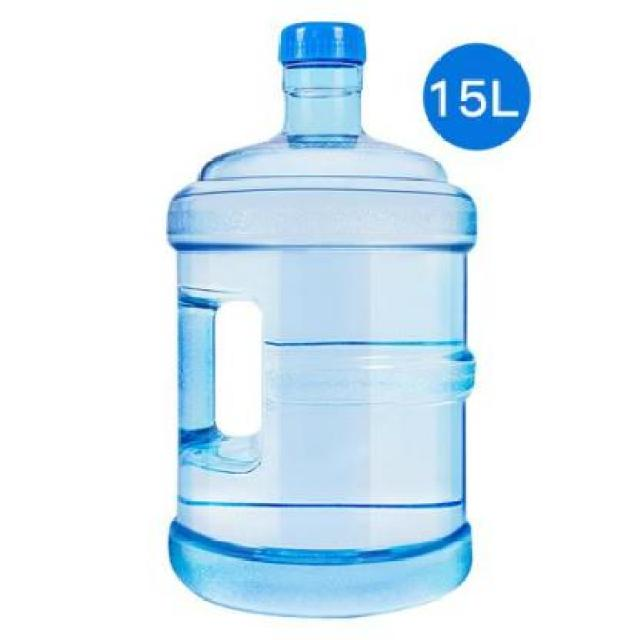coolerbottle: (164, 17, 482, 624)
